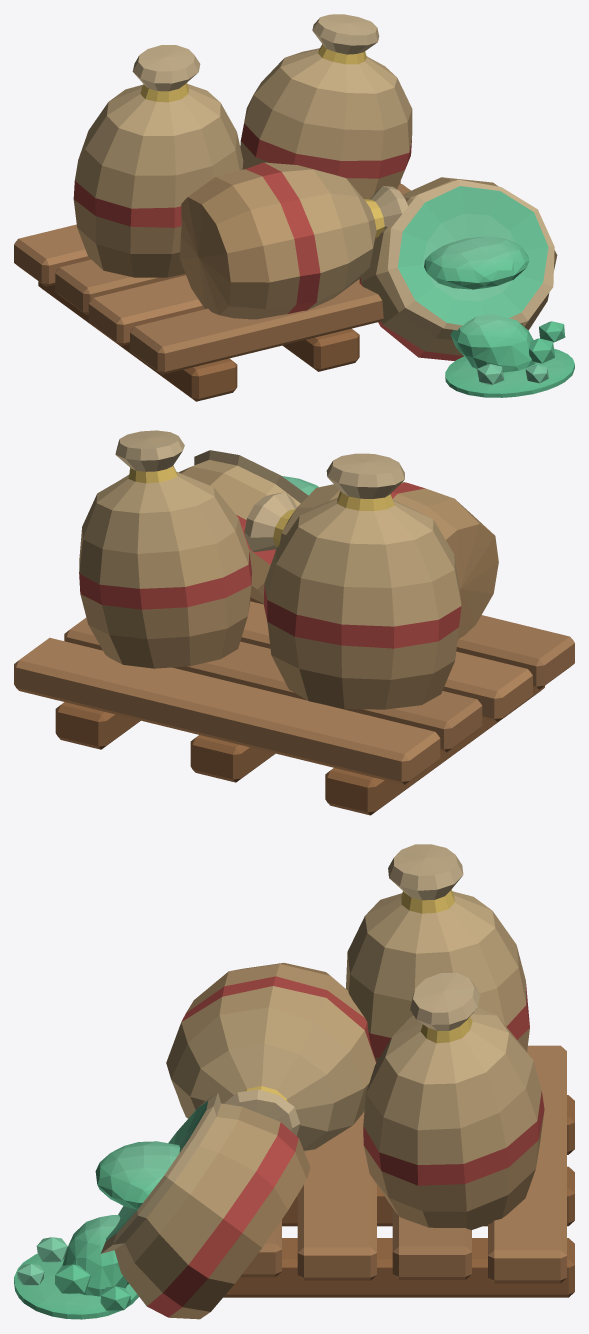
Rendered from ranch_feed_sacks.fbx.
The picture shows the model from 3 angles, top to bottom: view 1: azimuth 30°, elevation 25°; view 2: azimuth 150°, elevation 25°; view 3: azimuth 270°, elevation 25°; orthographic projection. The views are drawn at different scales.
Parts seen in each view (by area): view 1: ranch_feed_sacks; view 2: ranch_feed_sacks; view 3: ranch_feed_sacks.
Boxes of the visible parts, x1,y1,x2,y2 form: ranch_feed_sacks: (14, 14, 574, 401); ranch_feed_sacks: (14, 430, 574, 815); ranch_feed_sacks: (14, 844, 574, 1319).
Size of the model in its own units: 5.16 by 3.46 by 5.31.
